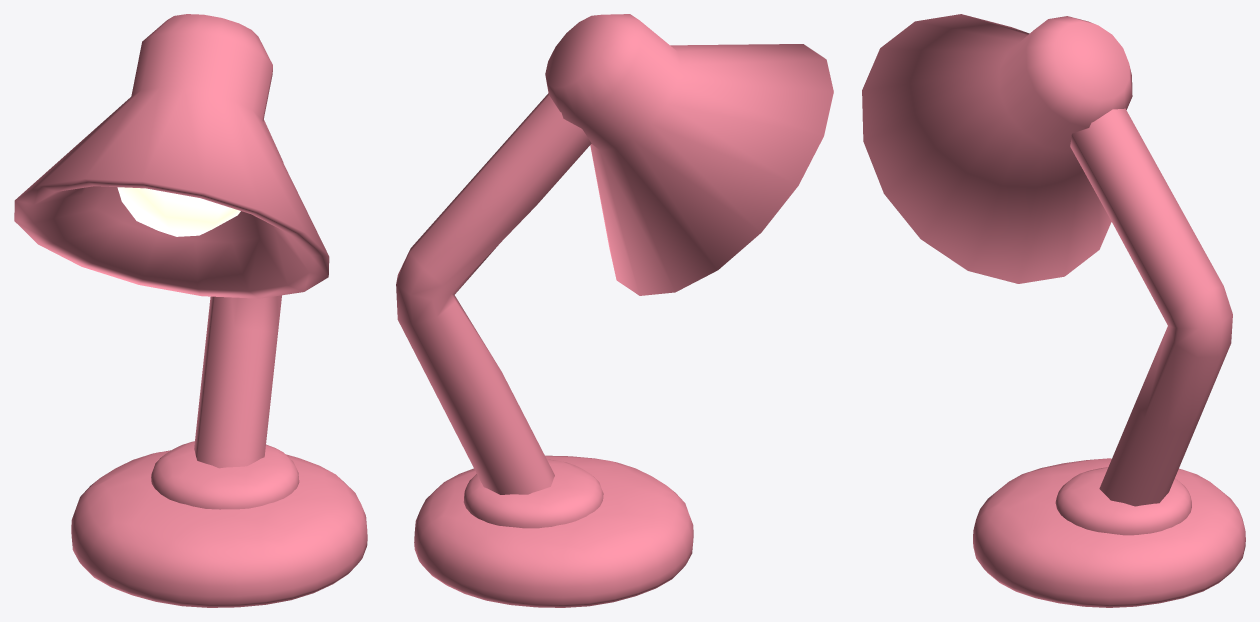
File: lampa.glb
3 renders of one model, left to right at view 1: azimuth 30°, elevation 25°; view 2: azimuth 150°, elevation 25°; view 3: azimuth 270°, elevation 25°, orthographic. The views are drawn at different scales.
Parts seen in each view (by area): view 1: Cylinder.001; view 2: Cylinder.001; view 3: Cylinder.001.
Part boxes in pixels (bbox=[...]): Cylinder.001: bbox=[14, 14, 367, 607]; Cylinder.001: bbox=[396, 14, 833, 607]; Cylinder.001: bbox=[862, 14, 1245, 607].
Bounding box in the file's own units: 0.0315 × 0.0469 × 0.0315.
